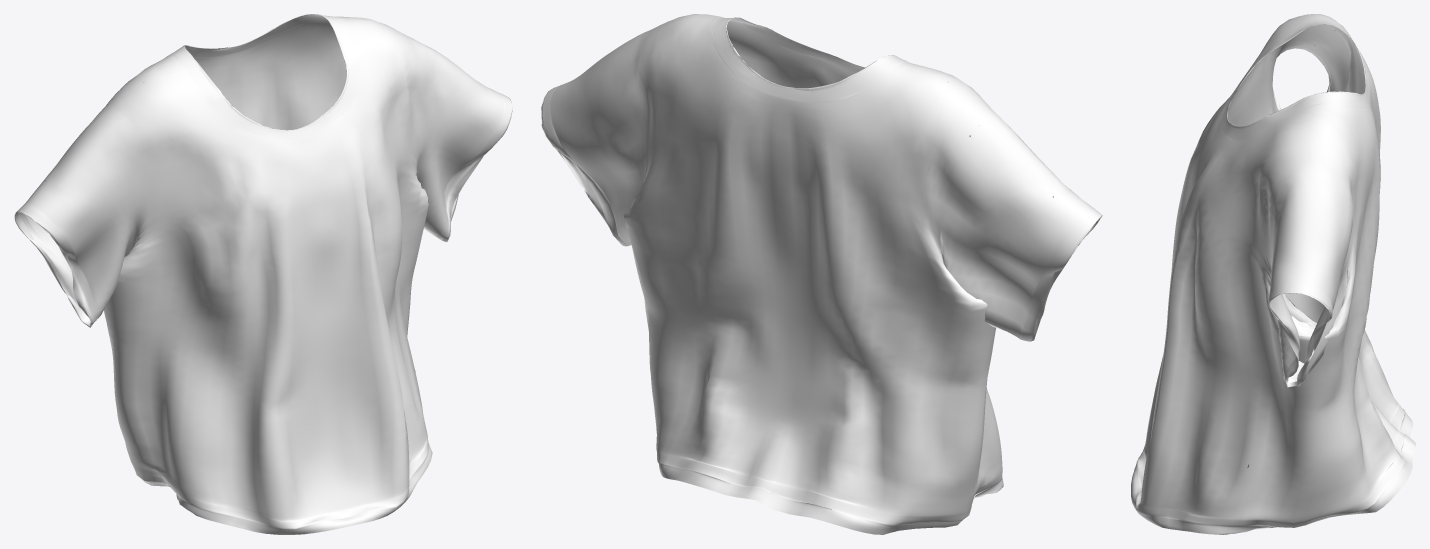
The model's file is Petite_Tshirt_L.glb.
The picture shows the model from 3 angles, left to right: view 1: azimuth 30°, elevation 25°; view 2: azimuth 150°, elevation 25°; view 3: azimuth 270°, elevation 25°; orthographic projection. The views are drawn at different scales.
Visible parts, largest first — view 1: TShirt_for_Genesis.008; view 2: TShirt_for_Genesis.008; view 3: TShirt_for_Genesis.008.
Part boxes in pixels (x1=…): TShirt_for_Genesis.008: x1=14, y1=14, x2=512, y2=534; TShirt_for_Genesis.008: x1=541, y1=14, x2=1102, y2=534; TShirt_for_Genesis.008: x1=1131, y1=14, x2=1415, y2=534.
Size of the model in its own units: 14.15 by 11.82 by 7.03.
Materials: 1 (1 with a texture image).
